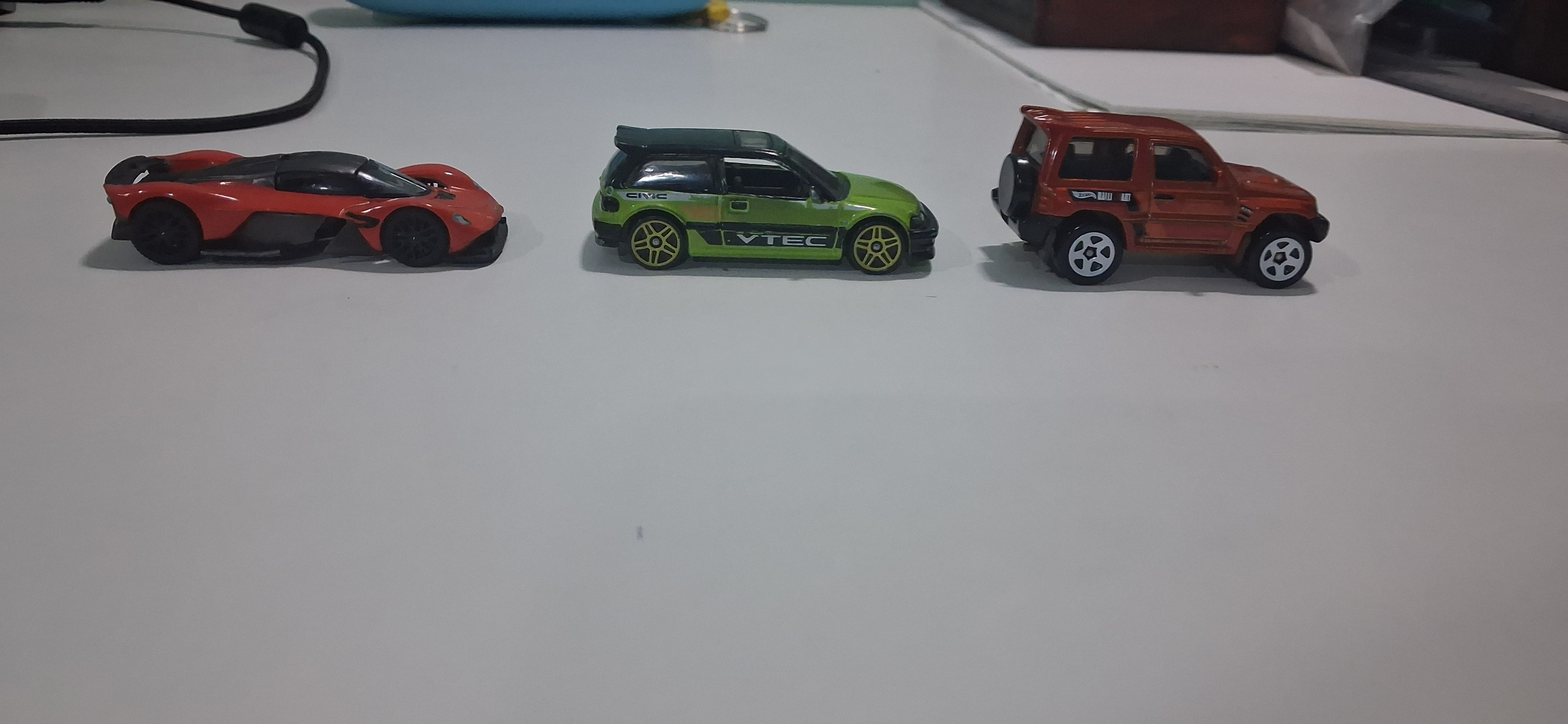Aston_Martin_Valkyrie: (79, 128, 544, 280)
Honda_Civic: (580, 91, 975, 302)
Mitsubishi_Pajero_Evolution: (997, 82, 1346, 308)
